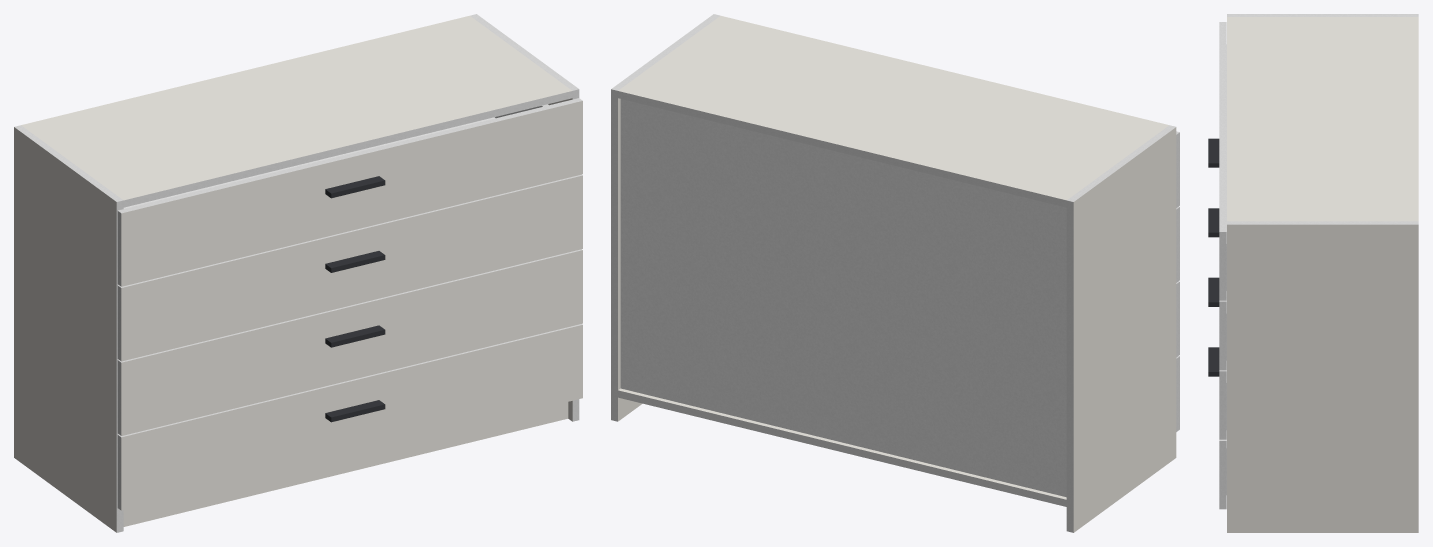
The model's file is LIT-PDR-std.glb.
3 views of the same model, side by side, from view 1: azimuth 30°, elevation 25°; view 2: azimuth 150°, elevation 25°; view 3: azimuth 270°, elevation 25° (orthographic). The views are drawn at different scales.
Visible parts, largest first — view 1: top:pbr, side-l:pbr, d2-front:pbr, d3-front:pbr, d4-front:pbr, d1-front:pbr, plinth:pbr, top:sheet:eyJtIjoibWRmIiwic2lkZSI6ImVkZ2UtbG9uZyIsInNlZWQiOj, pull, d4-front:sheet:eyJtIjoibWRmIiwic2lkZSI6ImVkZ2UtbG9uZyIsInNlZ, d2-front:sheet:eyJtIjoibWRmIiwic2lkZSI6ImVkZ2UtbG9uZyIsInNlZ, d1-front:sheet:eyJtIjoibWRmIiwic2lkZSI6ImVkZ2UtbG9uZyIsInNlZ (+5 smaller); view 2: back:sheet:eyJtIjoibWRmIiwic2lkZSI6ImZhY2UiLCJzZWVkIjo0LCJ0a, top:pbr, side-l:pbr, top:sheet:eyJtIjoibWRmIiwic2lkZSI6ImVkZ2UtbG9uZyIsInNlZWQiOj, bottom:sheet:eyJtIjoibWRmIiwic2lkZSI6ImVkZ2UtbG9uZyIsInNlZWQ, side-l:sheet:eyJtIjoibWRmIiwic2lkZSI6ImVkZ2UtbG9uZyIsInNlZWQ, side-r:sheet:eyJtIjoibWRmIiwic2lkZSI6ImVkZ2UtbG9uZyIsInNlZWQ, bottom:pbr, side-r:pbr, side-l:sheet:eyJtIjoibWRmIiwic2lkZSI6ImVkZ2UtZW5kIiwic2VlZCI, side-r:sheet:eyJtIjoibWRmIiwic2lkZSI6ImVkZ2UtZW5kIiwic2VlZCI; view 3: side-r:pbr, top:pbr, d4-front:sheet:eyJtIjoibWRmIiwic2lkZSI6ImVkZ2UtbG9uZyIsInNlZ, pull, side-r:sheet:eyJtIjoibWRmIiwic2lkZSI6ImVkZ2UtZW5kIiwic2VlZCI, side-l:sheet:eyJtIjoibWRmIiwic2lkZSI6ImVkZ2UtZW5kIiwic2VlZCI, d3-front:sheet:eyJtIjoibWRmIiwic2lkZSI6ImVkZ2UtZW5kIiwic2VlZ, d1-front:sheet:eyJtIjoibWRmIiwic2lkZSI6ImVkZ2UtZW5kIiwic2VlZ, d2-front:sheet:eyJtIjoibWRmIiwic2lkZSI6ImVkZ2UtZW5kIiwic2VlZ, d4-front:sheet:eyJtIjoibWRmIiwic2lkZSI6ImVkZ2UtZW5kIiwic2VlZ.
Boxes of the visible parts, <box> form: top:pbr: <box>21,15,571,200</box>; side-l:pbr: <box>14,127,116,532</box>; d2-front:pbr: <box>121,250,582,435</box>; d3-front:pbr: <box>121,175,582,361</box>; d4-front:pbr: <box>121,101,582,286</box>; d1-front:pbr: <box>121,325,582,510</box>; plinth:pbr: <box>123,402,568,526</box>; top:sheet:eyJtIjoibWRmIiwic2lkZSI6ImVkZ2UtbG9uZyIsInNlZWQiOj: <box>123,91,572,207</box>; pull: <box>325,176,385,422</box>; d4-front:sheet:eyJtIjoibWRmIiwic2lkZSI6ImVkZ2UtbG9uZyIsInNlZ: <box>118,98,582,213</box>; d2-front:sheet:eyJtIjoibWRmIiwic2lkZSI6ImVkZ2UtbG9uZyIsInNlZ: <box>118,249,582,362</box>; d1-front:sheet:eyJtIjoibWRmIiwic2lkZSI6ImVkZ2UtbG9uZyIsInNlZ: <box>118,324,582,437</box>; back:sheet:eyJtIjoibWRmIiwic2lkZSI6ImZhY2UiLCJzZWVkIjo0LCJ0a: <box>620,99,1066,497</box>; top:pbr: <box>618,16,1168,200</box>; side-l:pbr: <box>1073,127,1176,532</box>; top:sheet:eyJtIjoibWRmIiwic2lkZSI6ImVkZ2UtbG9uZyIsInNlZWQiOj: <box>618,91,1066,207</box>; bottom:sheet:eyJtIjoibWRmIiwic2lkZSI6ImVkZ2UtbG9uZyIsInNlZWQ: <box>618,390,1066,506</box>; side-l:sheet:eyJtIjoibWRmIiwic2lkZSI6ImVkZ2UtbG9uZyIsInNlZWQ: <box>1066,200,1073,532</box>; side-r:sheet:eyJtIjoibWRmIiwic2lkZSI6ImVkZ2UtbG9uZyIsInNlZWQ: <box>611,89,617,421</box>; bottom:pbr: <box>618,388,1066,499</box>; side-r:pbr: <box>618,98,642,421</box>; side-l:sheet:eyJtIjoibWRmIiwic2lkZSI6ImVkZ2UtZW5kIiwic2VlZCI: <box>1067,125,1175,201</box>; side-r:sheet:eyJtIjoibWRmIiwic2lkZSI6ImVkZ2UtZW5kIiwic2VlZCI: <box>611,14,720,90</box>; side-r:pbr: <box>1227,224,1418,532</box>; top:pbr: <box>1227,17,1418,221</box>; d4-front:sheet:eyJtIjoibWRmIiwic2lkZSI6ImVkZ2UtbG9uZyIsInNlZ: <box>1219,22,1226,231</box>; pull: <box>1208,138,1219,376</box>; side-r:sheet:eyJtIjoibWRmIiwic2lkZSI6ImVkZ2UtZW5kIiwic2VlZCI: <box>1227,221,1418,224</box>; side-l:sheet:eyJtIjoibWRmIiwic2lkZSI6ImVkZ2UtZW5kIiwic2VlZCI: <box>1227,14,1418,16</box>; d3-front:sheet:eyJtIjoibWRmIiwic2lkZSI6ImVkZ2UtZW5kIiwic2VlZ: <box>1219,301,1226,370</box>; d1-front:sheet:eyJtIjoibWRmIiwic2lkZSI6ImVkZ2UtZW5kIiwic2VlZ: <box>1219,441,1226,509</box>; d2-front:sheet:eyJtIjoibWRmIiwic2lkZSI6ImVkZ2UtZW5kIiwic2VlZ: <box>1219,371,1226,439</box>; d4-front:sheet:eyJtIjoibWRmIiwic2lkZSI6ImVkZ2UtZW5kIiwic2VlZ: <box>1219,232,1226,300</box>.
Size of the model in its own units: 1.2 by 0.82 by 0.5069.
Materials: 91 (81 with a texture image).
